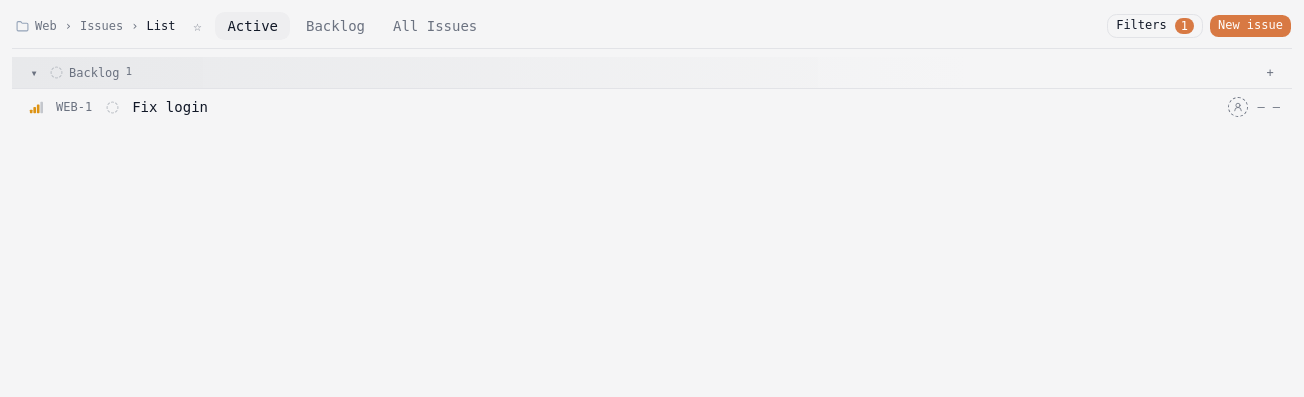
Test: project issues list view › group quick-add opens create-mode detail preselected to that status
Expected: the text "WEB-1" is shown, x1=56 y1=99 x2=92 y2=115
Click the button named "add issue to backlog". click: (1270,72)
box: x1=1260 y1=62 x2=1280 y2=82
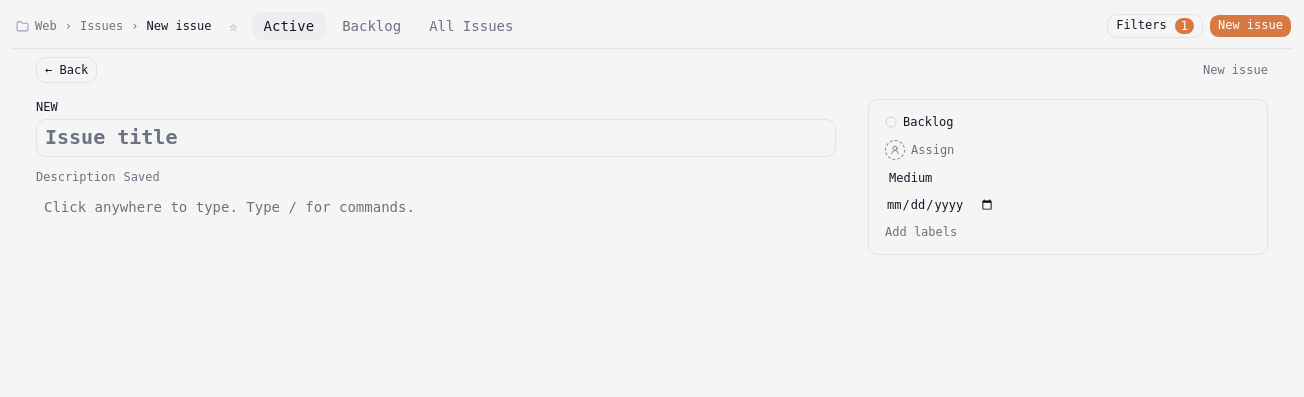
Expected: the button with aria-label "status for new" reads "Backlog", x1=881 y1=112 x2=958 y2=132
Expected: the element with test id "issue-create-detail" is shown
